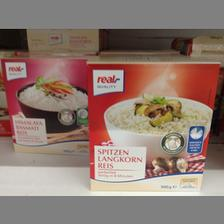Reis: (86, 54, 220, 190), (0, 54, 88, 154)
